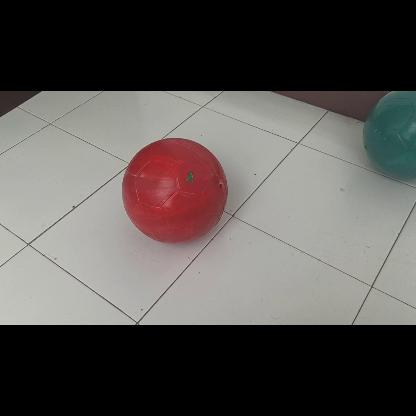red_ball: (121, 137, 227, 243)
